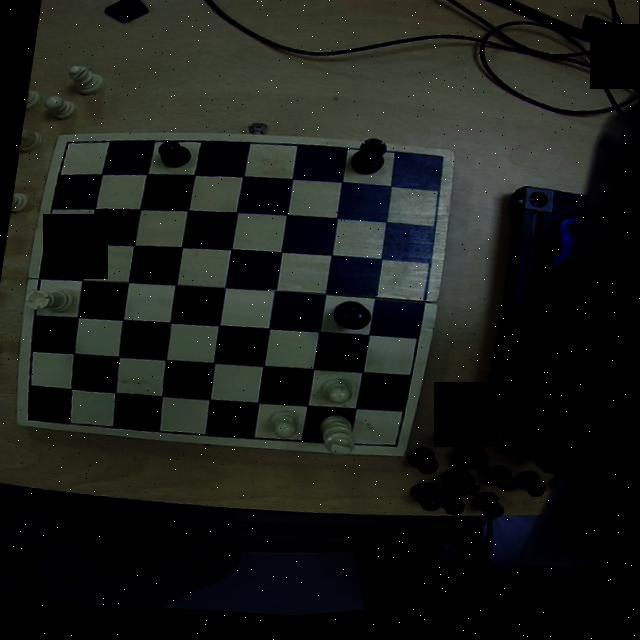chess-table-corners: (426, 155, 454, 181), (384, 437, 410, 462), (16, 408, 46, 429), (55, 136, 79, 159)
